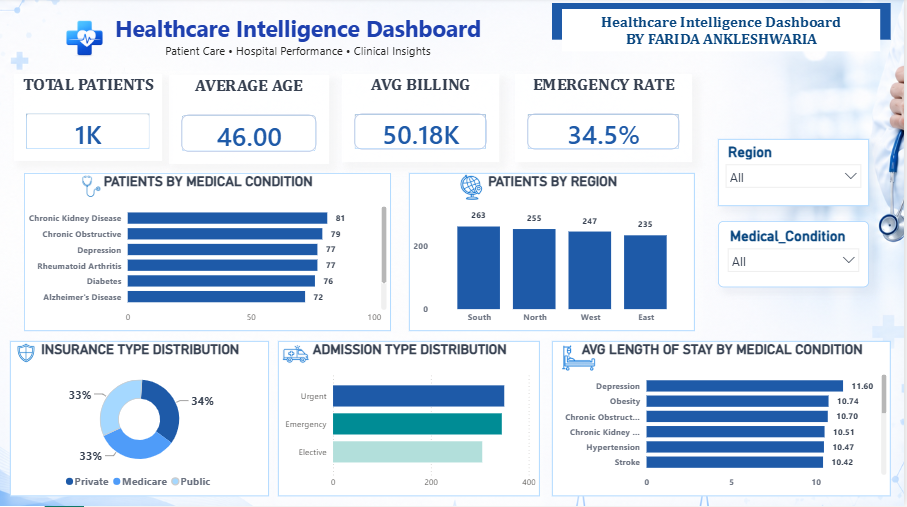

Layout of this report page (visuals, bound fields, positions):
{"tool":"powerbi","page":{"name":"Page 1","canvas":[1280,720],"ordinal":0},"visuals":[{"type":"textbox","box":[34,15.6,776.7,87.9],"z":0},{"type":"image","box":[14.2,0,215.4,124.7],"z":1000},{"type":"cardVisual","title":"TOTAL PATIENTS","fields":{"Data":["medical datasetproject.Total Patients Count"]},"box":[19.8,107.7,209.8,123.3],"z":2000},{"type":"cardVisual","title":"AVERAGE AGE","fields":{"Data":["medical datasetproject.Average_Age"]},"box":[239.5,109.1,226.8,126.1],"z":3000},{"type":"cardVisual","title":"AVG BILLING","fields":{"Data":["Avg(medical datasetproject.Income)"]},"box":[484.7,107.7,222.5,124.7],"z":4000},{"type":"cardVisual","title":"EMERGENCY RATE ","fields":{"Data":["medical datasetproject.Emergency_Admission %"]},"box":[729.9,107.7,250.9,124.7],"z":5000},{"type":"clusteredBarChart","title":"PATIENTS BY MEDICAL CONDITION","fields":{"Category":["medical datasetproject.Medical_Condition"],"Y":["CountNonNull(medical datasetproject.Patient_ID)"]},"box":[34,248,520.2,223.9],"z":6000},{"type":"clusteredColumnChart","title":"PATIENTS BY REGION ","fields":{"Category":["medical datasetproject.Region"],"Y":["CountNonNull(medical datasetproject.Patient_ID)"]},"box":[579.7,248,405.4,223.9],"z":7000},{"type":"donutChart","title":"INSURANCE TYPE DISTRIBUTION ","fields":{"Category":["medical datasetproject.Insurance_Type"],"Y":["CountNonNull(medical datasetproject.Patient_ID)"]},"box":[14.2,486.1,367.1,219.7],"z":8000},{"type":"barChart","title":"ADMISSION TYPE DISTRIBUTION ","fields":{"Category":["medical datasetproject.Admission_Type"],"Y":["CountNonNull(medical datasetproject.Patient_ID)"]},"box":[394,486.1,371.3,219.7],"z":9000},{"type":"clusteredBarChart","title":"AVG LENGTH OF STAY BY MEDICAL CONDITION ","fields":{"Y":["Avg(medical datasetproject.Length_of_Stay)"],"Category":["medical datasetproject.Medical_Condition"]},"box":[782.4,486.1,480.5,219.7],"z":10000},{"type":"slicer","fields":{"Values":["medical datasetproject.Region"]},"box":[1017.6,199.8,214,95],"z":11000},{"type":"slicer","fields":{"Values":["medical datasetproject.Medical_Condition"]},"box":[1017.6,316.1,214,93.5],"z":12000},{"type":"image","box":[92.1,249.4,76.5,36.9],"z":13000},{"type":"image","box":[627.9,245.2,78,52.4],"z":14000},{"type":"image","box":[2.8,464.9,68,82.2],"z":15000},{"type":"image","box":[379.8,474.8,76.5,62.4],"z":16000},{"type":"image","box":[751.2,477.6,136.1,72.3],"z":17000},{"type":"shape","box":[782.4,7.1,480.5,52.4],"z":18000},{"type":"textbox","box":[796.5,15.6,450.7,59.5],"z":19000}]}

Visuals, with their boxes in screenshot pixels (x1, y1, x2, y2), scaled from the page's 1280x720 canvas onto the 907x507 screenshot:
textbox: BBox(24, 11, 574, 73)
image: BBox(10, 0, 163, 88)
"TOTAL PATIENTS" cardVisual: BBox(14, 76, 163, 163)
"AVERAGE AGE" cardVisual: BBox(170, 77, 330, 166)
"AVG BILLING" cardVisual: BBox(343, 76, 501, 164)
"EMERGENCY RATE " cardVisual: BBox(517, 76, 695, 164)
"PATIENTS BY MEDICAL CONDITION" clusteredBarChart: BBox(24, 175, 393, 332)
"PATIENTS BY REGION " clusteredColumnChart: BBox(411, 175, 698, 332)
"INSURANCE TYPE DISTRIBUTION " donutChart: BBox(10, 342, 270, 497)
"ADMISSION TYPE DISTRIBUTION " barChart: BBox(279, 342, 542, 497)
"AVG LENGTH OF STAY BY MEDICAL CONDITION " clusteredBarChart: BBox(554, 342, 895, 497)
slicer - medical datasetproject.Region: BBox(721, 141, 873, 208)
slicer - medical datasetproject.Medical_Condition: BBox(721, 223, 873, 288)
image: BBox(65, 176, 119, 202)
image: BBox(445, 173, 500, 210)
image: BBox(2, 327, 50, 385)
image: BBox(269, 334, 323, 378)
image: BBox(532, 336, 629, 387)
shape: BBox(554, 5, 895, 42)
textbox: BBox(564, 11, 884, 53)
